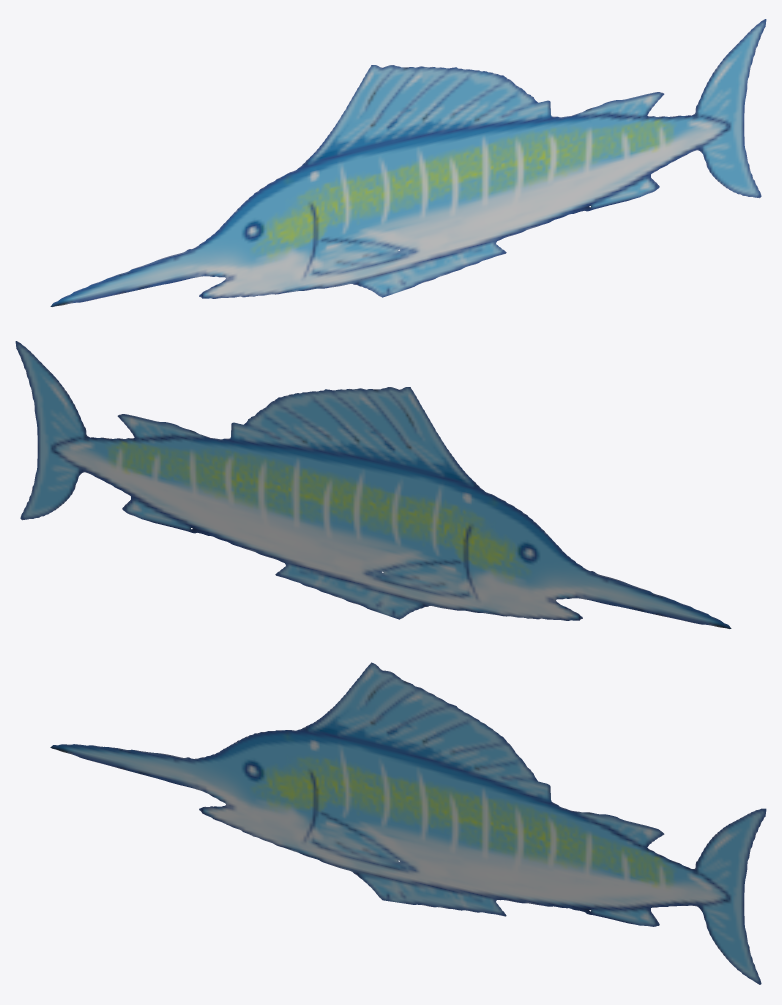
Rendered from giftgoods061.fbx.
The picture shows the model from 3 angles, top to bottom: view 1: azimuth 30°, elevation 25°; view 2: azimuth 150°, elevation 25°; view 3: azimuth 330°, elevation 25°; orthographic projection.
Parts seen in each view (by area): view 1: giftgoods061; view 2: giftgoods061; view 3: giftgoods061.
Part boxes in pixels (bbox=[...]): giftgoods061: bbox=[50, 19, 766, 306]; giftgoods061: bbox=[15, 341, 731, 628]; giftgoods061: bbox=[50, 662, 766, 984].
Bounding box in the file's own units: 2.07 × 0.6282 × 0.
